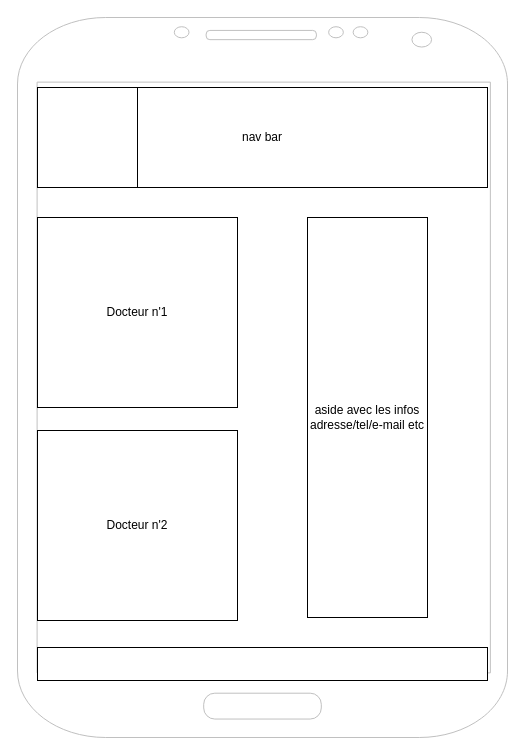
Some shapes in this 525 by 755 pixel diagram are drawn without their labels. Each missing label, with the centre of its shape:
footer: (x=262, y=663)
nom de l'entreprise: (x=87, y=137)
